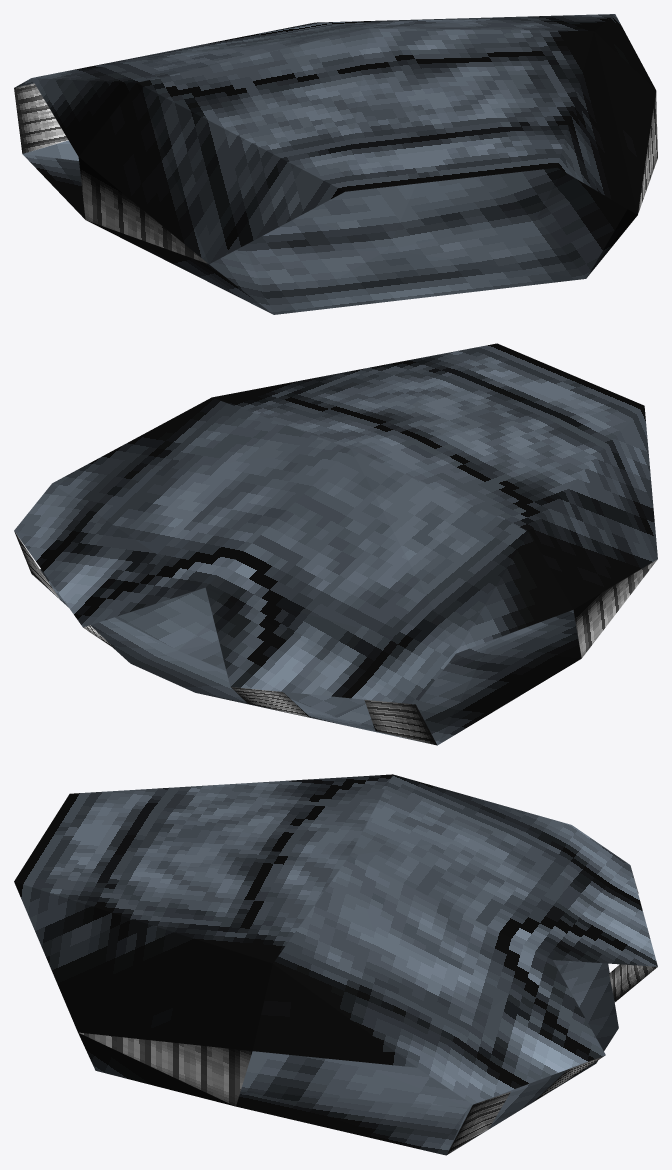
The model's file is primary_081.glb.
The picture shows the model from 3 angles, top to bottom: view 1: azimuth 30°, elevation 25°; view 2: azimuth 150°, elevation 25°; view 3: azimuth 270°, elevation 25°; orthographic projection. The views are drawn at different scales.
Visible parts, largest first — view 1: Object; view 2: Object; view 3: Object.
Boxes of the visible parts, <box> form: Object: <box>14,14,657,314</box>; Object: <box>14,343,657,745</box>; Object: <box>14,774,657,1155</box>.
Bounding box in the file's own units: 0.7086 × 0.2409 × 0.7257.
Materials: 7 (7 with a texture image).
